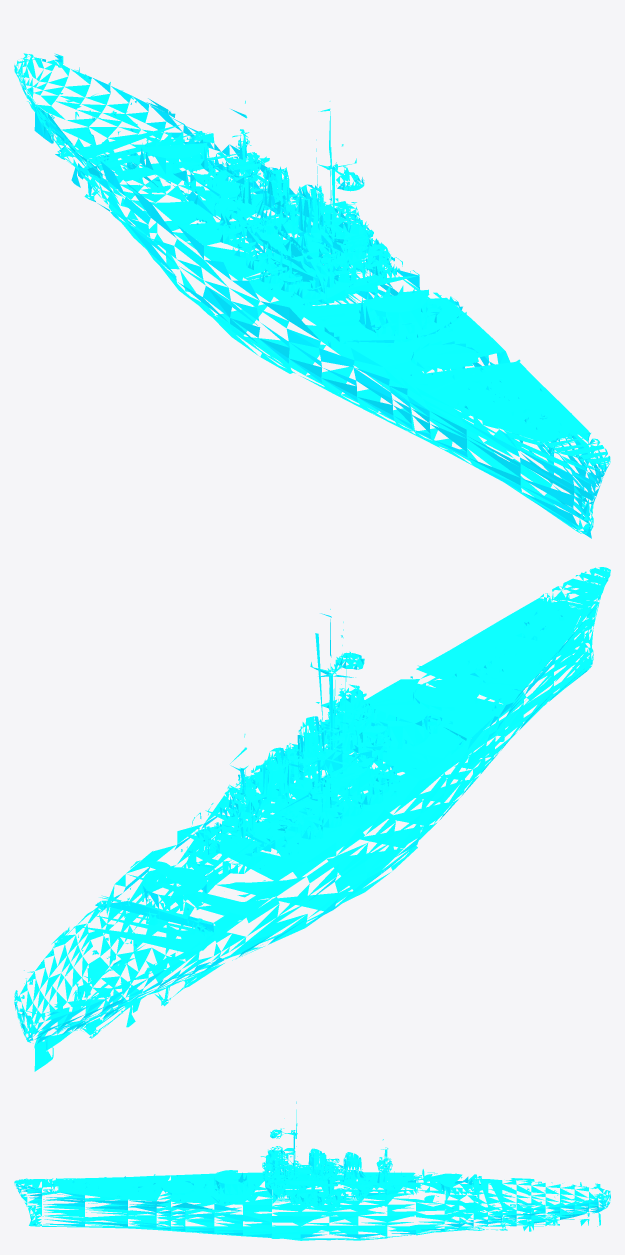
The model's file is Vittorio_Veneto.glb.
The picture shows the model from 3 angles, top to bottom: view 1: azimuth 30°, elevation 25°; view 2: azimuth 150°, elevation 25°; view 3: azimuth 270°, elevation 25°; orthographic projection. The views are drawn at different scales.
Bounding box in the file's own units: 2.19 × 3.72 × 15.89.
